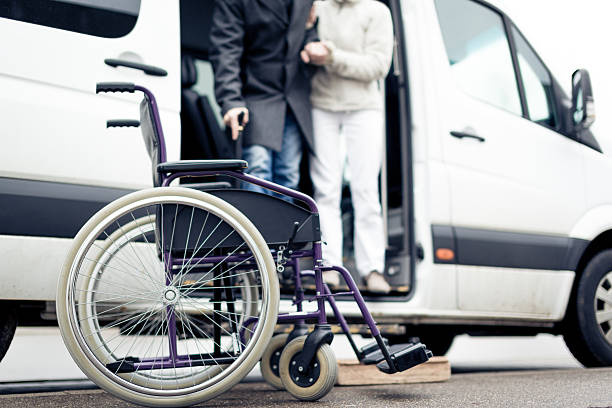wheel_chair: (32, 47, 439, 408)
